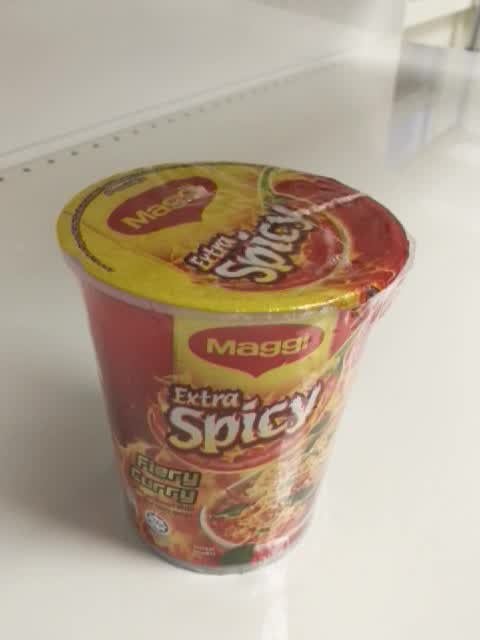maggi: (55, 161, 416, 578)
